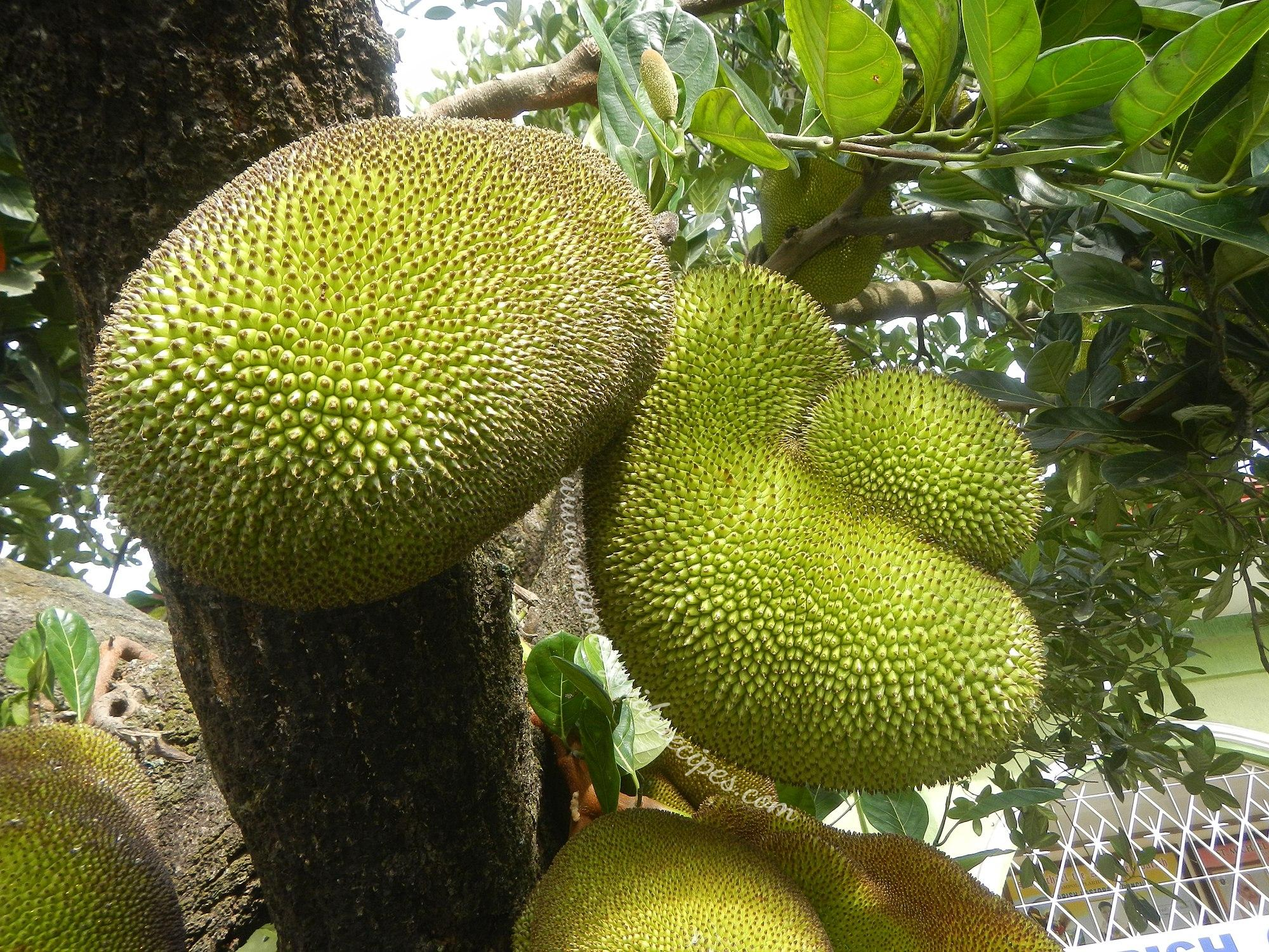mit: (85, 110, 680, 617), (587, 255, 1046, 794)
